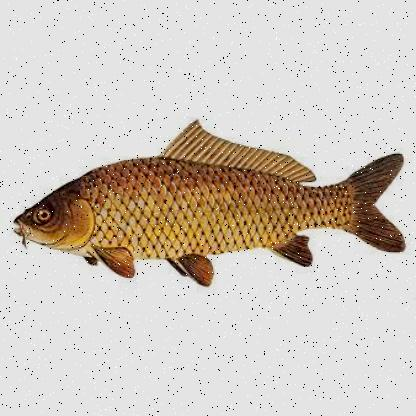ikan-mas: (13, 124, 407, 286)
